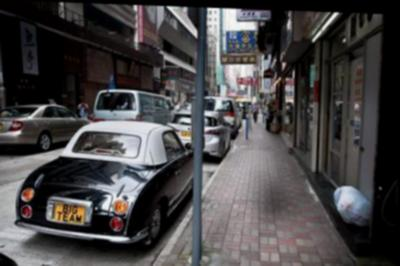License_Plate: (50, 202, 87, 228)
